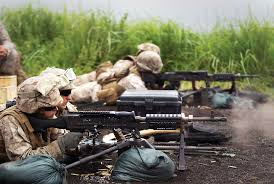gun: (30, 108, 229, 153), (140, 69, 260, 95)
